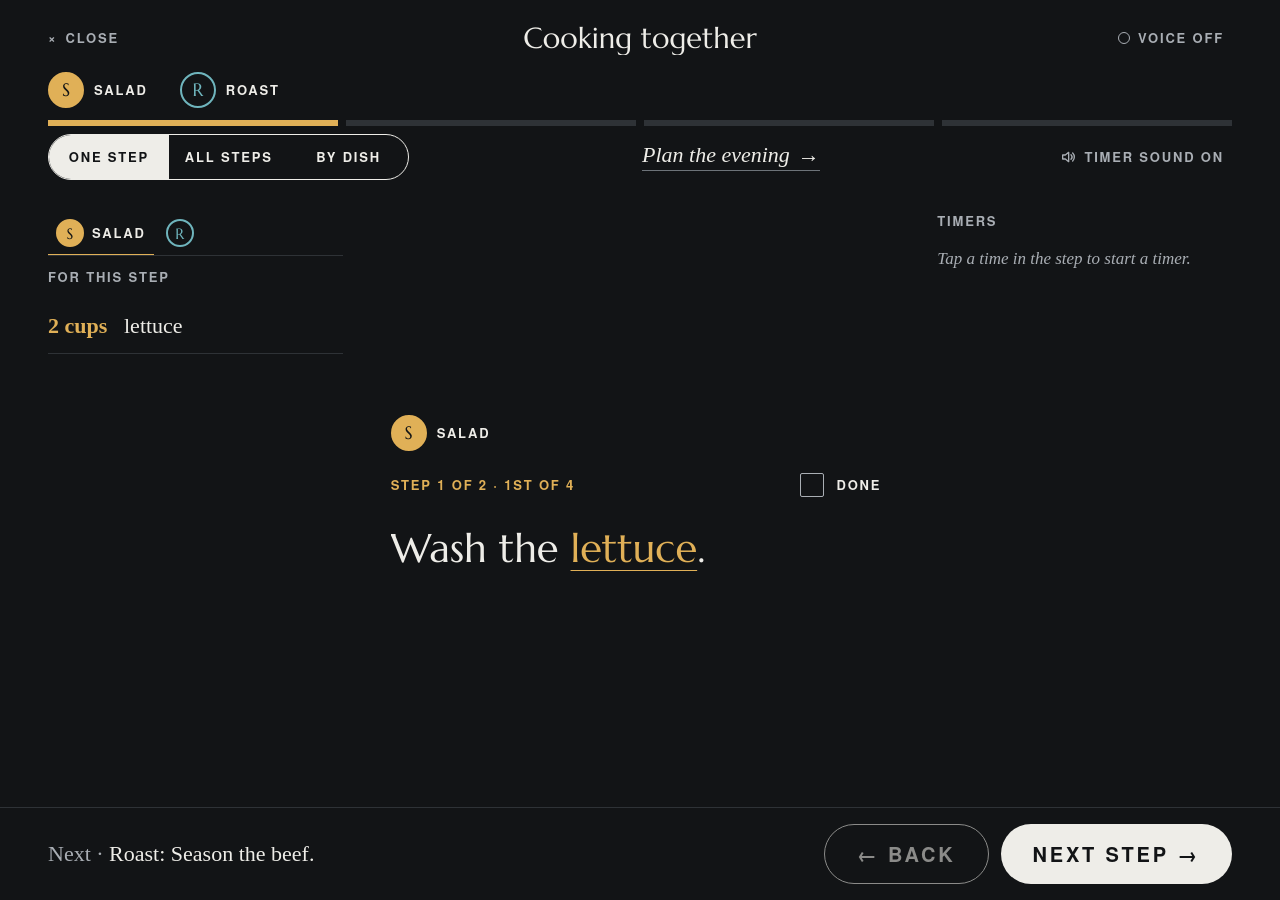
Plan the evening › refuses a plan that does not fit these recipes any more
Click the button "Plan the evening →": (731, 157) [642,135,820,179]
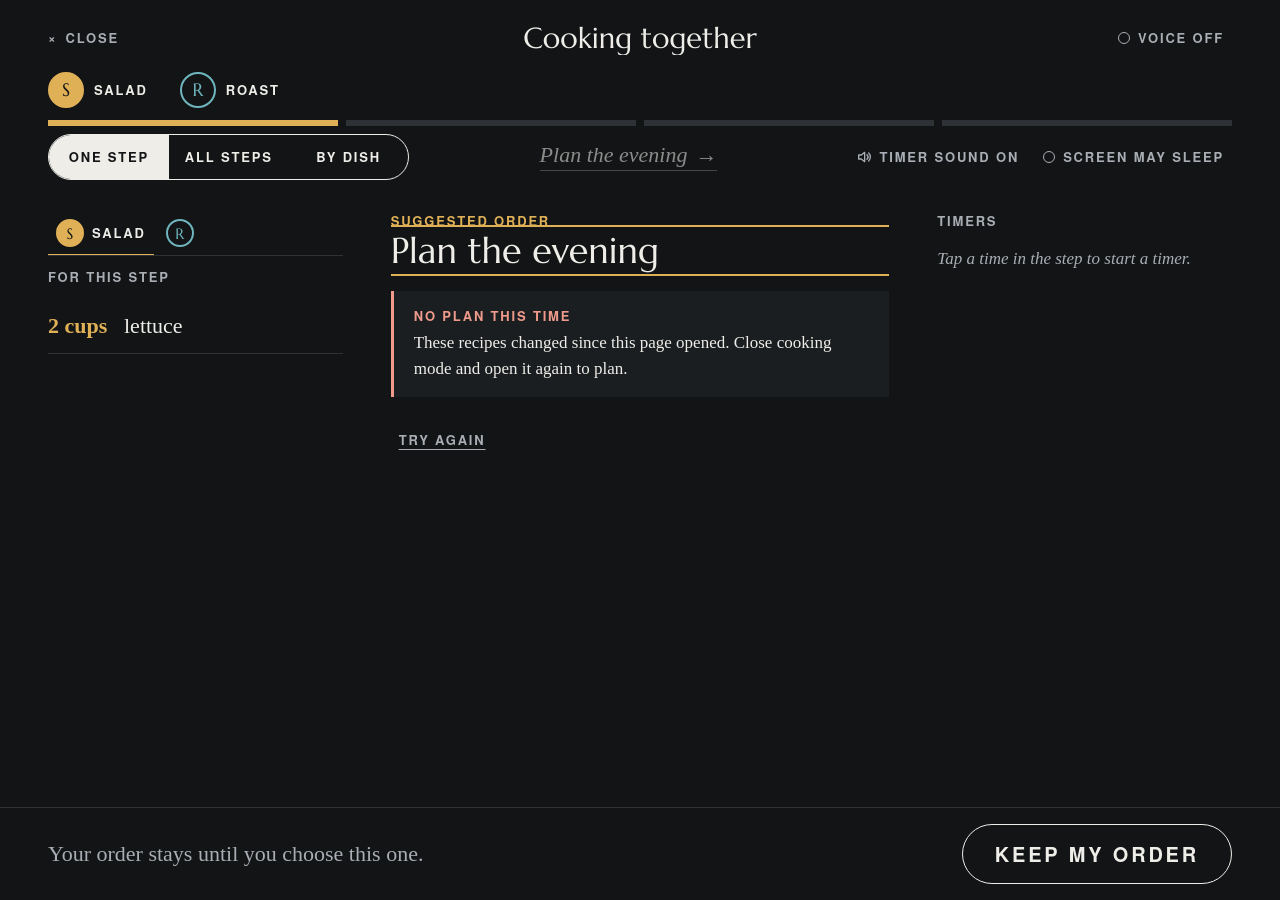
Expected: the text "These recipes changed since this page opened" is shown, [414,334,832,378]
